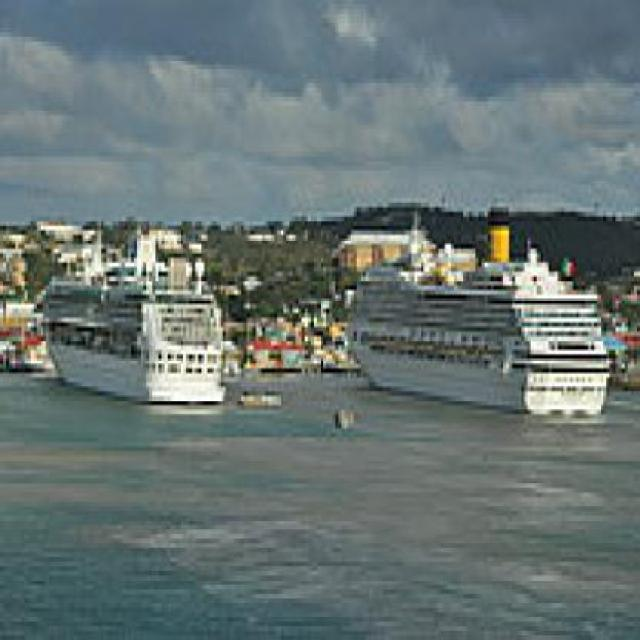cruise: (345, 203, 620, 434), (34, 227, 236, 429)
